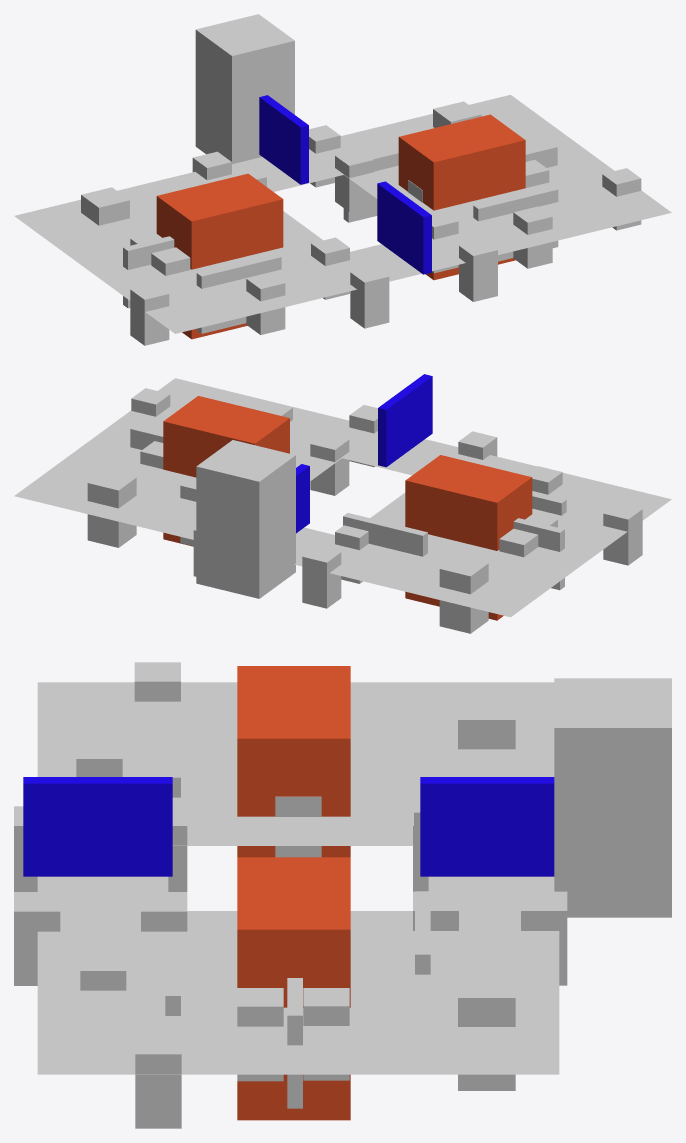
File: F_MAP3.fbx
3 views of the same model, one above another, from view 1: azimuth 30°, elevation 25°; view 2: azimuth 150°, elevation 25°; view 3: azimuth 270°, elevation 25° (orthographic). The views are drawn at different scales.
Visible parts, largest first — view 1: Plane.008, Cube.067, Cube.138, Cube.137, Cube.085, Cube.054, Cube.112, Cube.101, Cube.110, Cube.087, Cube.095, Cube.096 (+14 smaller); view 2: Plane.008, Cube.067, Cube.137, Cube.138, Cube.085, Cube.097, Cube.106, Cube.105, Cube.110, Cube.089, Cube.100, Cube.107 (+10 smaller); view 3: Plane.008, Cube.067, Cube.138, Cube.137, Cube.085, Cube.054, Cube.090, Cube.097, Cube.106, Cube.101, Cube.102, Cube.099 (+14 smaller).
Part boxes in pixels (left/top/right/bottom): Plane.008: left=14, top=94, right=671, bottom=333; Cube.067: left=195, top=14, right=294, bottom=164; Cube.138: left=398, top=114, right=525, bottom=280; Cube.137: left=156, top=173, right=283, bottom=339; Cube.085: left=377, top=181, right=431, bottom=274; Cube.054: left=259, top=95, right=308, bottom=184; Cube.112: left=350, top=266, right=389, bottom=328; Cube.101: left=459, top=239, right=497, bottom=301; Cube.110: left=130, top=283, right=169, bottom=345; Cube.087: left=196, top=253, right=281, bottom=333; Cube.095: left=335, top=149, right=373, bottom=211; Cube.096: left=246, top=273, right=285, bottom=334; Plane.008: left=14, top=378, right=671, bottom=617; Cube.067: left=196, top=440, right=295, bottom=598; Cube.137: left=405, top=455, right=532, bottom=620; Cube.138: left=163, top=396, right=289, bottom=546; Cube.085: left=378, top=374, right=432, bottom=467; Cube.097: left=87, top=470, right=136, bottom=547; Cube.106: left=439, top=556, right=488, bottom=633; Cube.105: left=302, top=546, right=341, bottom=608; Cube.110: left=603, top=503, right=642, bottom=565; Cube.089: left=343, top=513, right=427, bottom=556; Cube.100: left=310, top=433, right=349, bottom=495; Cube.107: left=513, top=518, right=564, bottom=590; Plane.008: left=37, top=682, right=559, bottom=1074; Cube.067: left=554, top=678, right=671, bottom=917; Cube.138: left=237, top=857, right=350, bottom=1120; Cube.137: left=237, top=666, right=350, bottom=857; Cube.085: left=23, top=777, right=172, bottom=876; Cube.054: left=420, top=777, right=554, bottom=876; Cube.090: left=135, top=1034, right=181, bottom=1128; Cube.097: left=458, top=973, right=515, bottom=1090; Cube.106: left=458, top=695, right=515, bottom=749; Cube.101: left=14, top=892, right=60, bottom=985; Cube.102: left=521, top=891, right=567, bottom=985; Cube.099: left=237, top=988, right=283, bottom=1081.
Bounding box in the file's own units: 1368 × 467 × 969.
